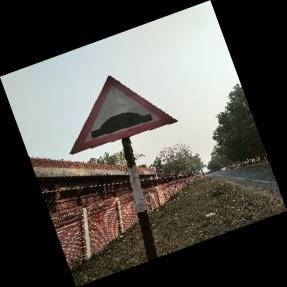Speed-breaker: (69, 75, 177, 154)
